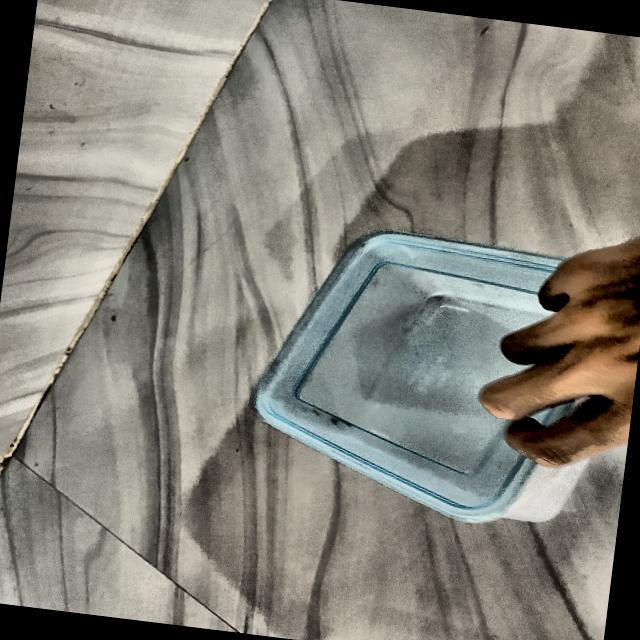plastic container: (257, 188, 640, 554)
